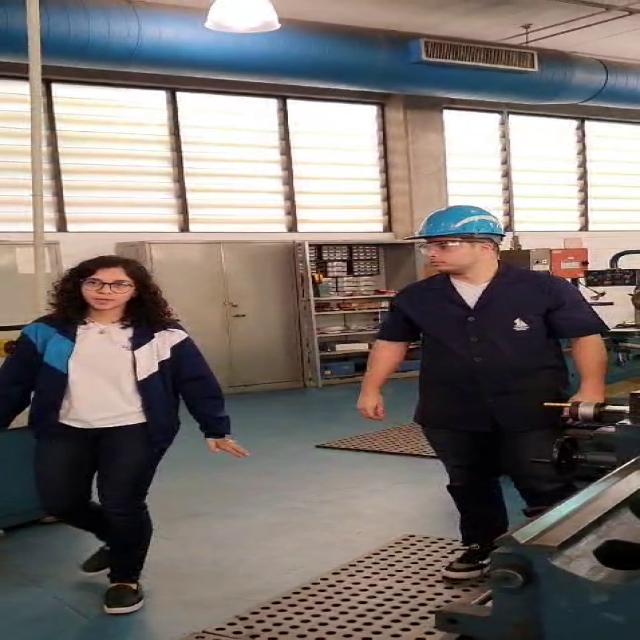oculos-epi: (407, 231, 508, 262)
sem_oculos: (62, 273, 153, 297)
